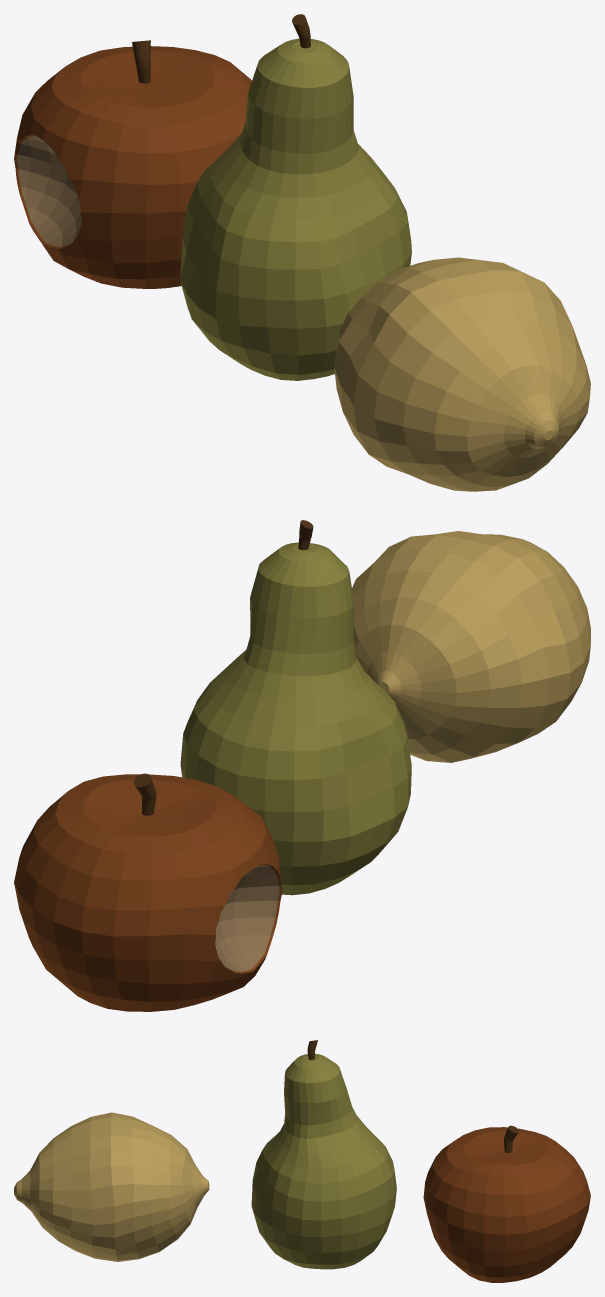
The model's file is BPW_Fruits.fbx.
The picture shows the model from 3 angles, top to bottom: view 1: azimuth 30°, elevation 25°; view 2: azimuth 150°, elevation 25°; view 3: azimuth 270°, elevation 25°; orthographic projection. The views are drawn at different scales.
Visible parts, largest first — view 1: Sphere.002, Sphere.001, Sphere, Cylinder; view 2: Sphere, Sphere.002, Sphere.001, Cylinder; view 3: Sphere.002, Sphere.001, Sphere.
Boxes of the visible parts, box(x1,y1,x2,y2) form: Sphere.002: box(180, 38, 411, 380); Sphere.001: box(334, 257, 590, 491); Sphere: box(14, 46, 251, 288); Cylinder: box(132, 40, 150, 83); Sphere: box(14, 774, 282, 1011); Sphere.002: box(180, 542, 411, 895); Sphere.001: box(352, 531, 590, 762); Cylinder: box(133, 773, 156, 815); Sphere.002: box(251, 1053, 396, 1269); Sphere.001: box(14, 1112, 209, 1261); Sphere: box(423, 1127, 590, 1282).
Bounding box in the file's own units: 209 × 323 × 735.
